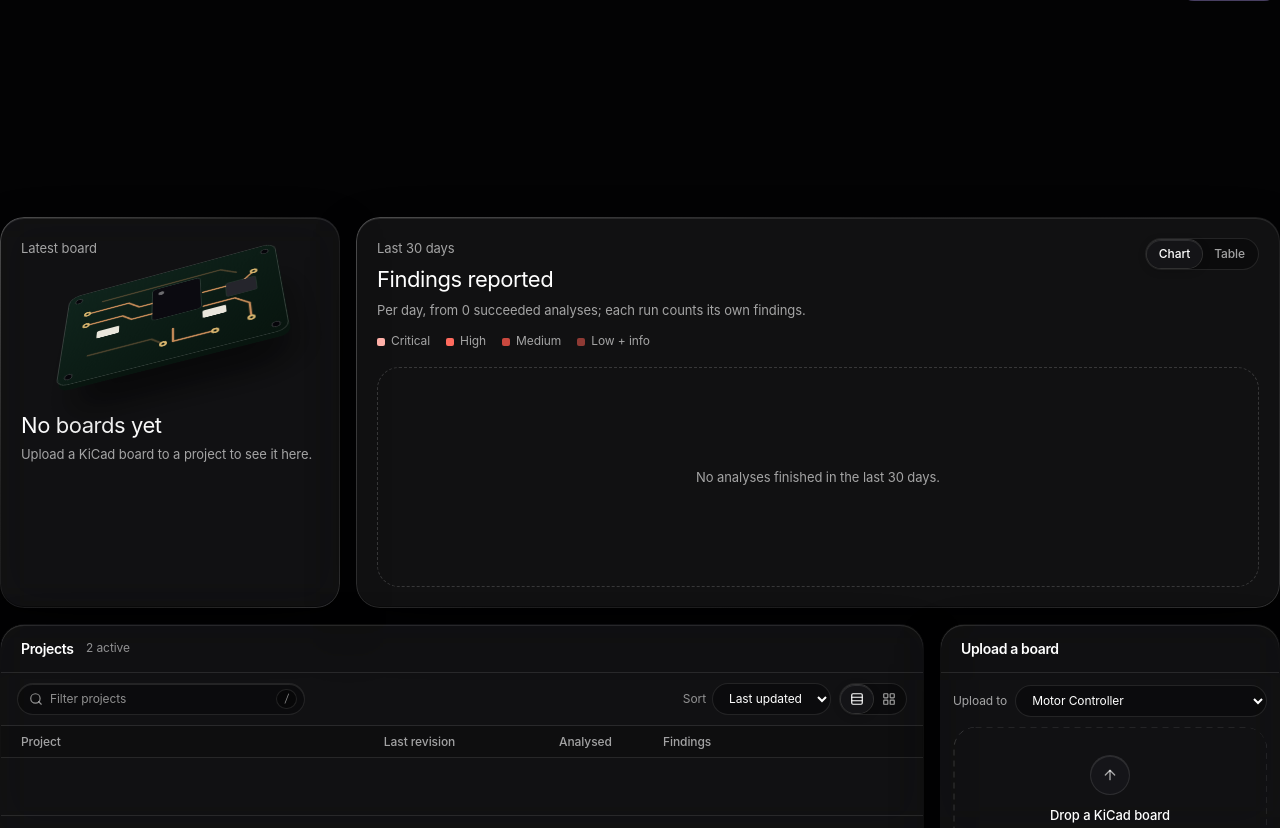
Test case: Dashboard › switches between table and cards and remembers the choice
Click the radio button named "Cards" at (889, 699), box x1=873 y1=685 x2=905 y2=713
(page scrolled)
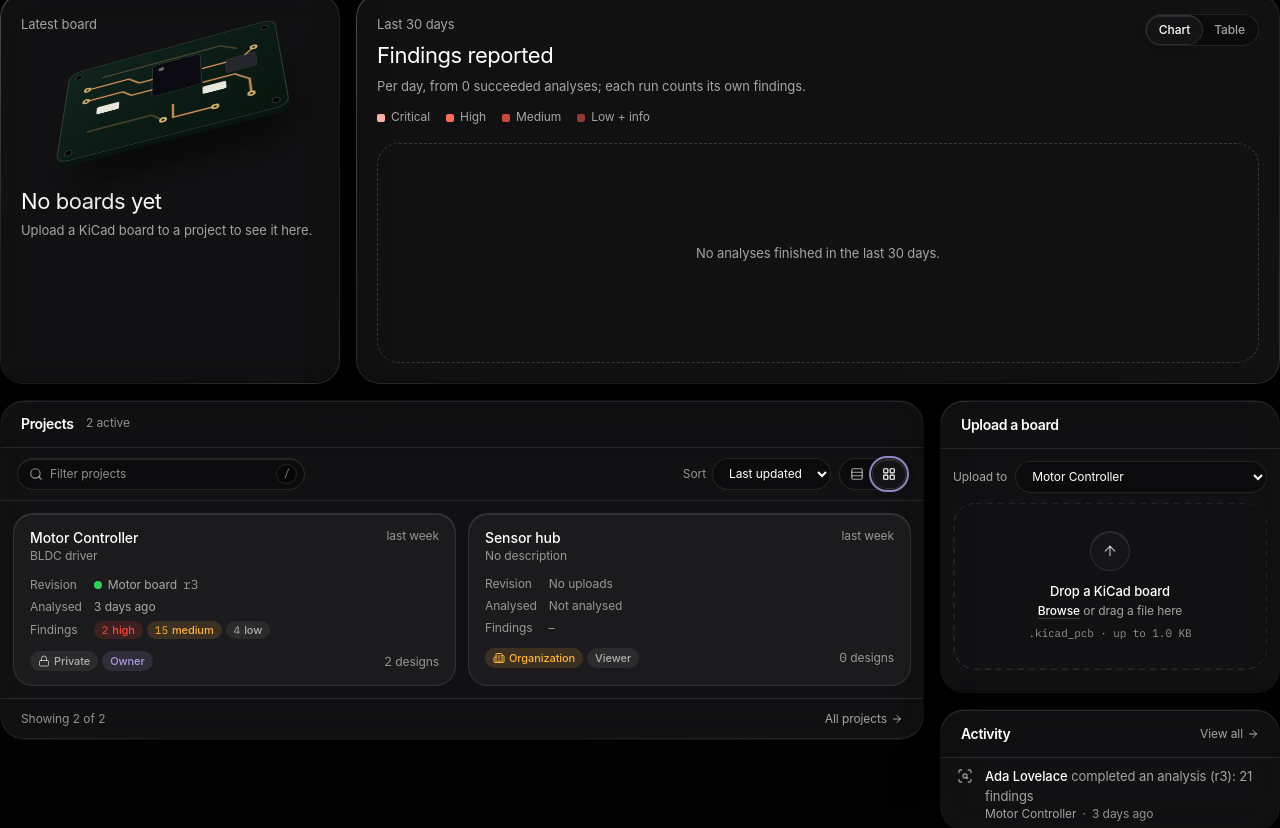
Result: the link with aria-label "2 high, 15 medium, 4 low" is shown at x1=94 y1=621 x2=270 y2=639
